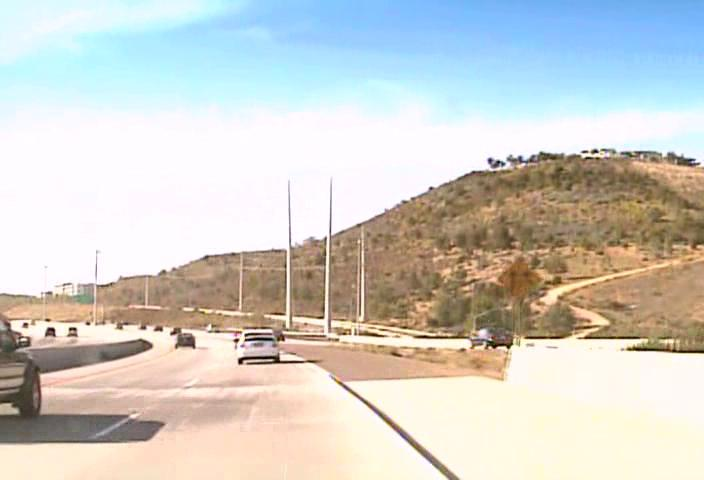addedLane: (496, 255, 543, 303)
